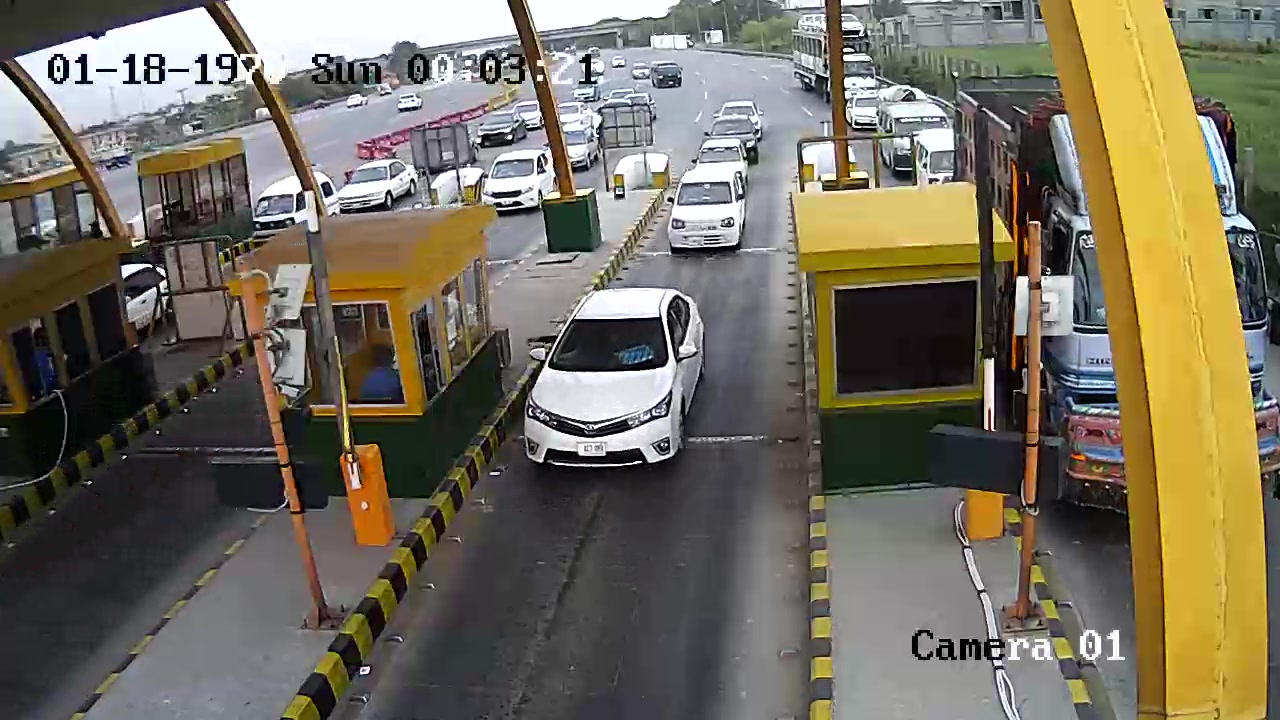F1: (513, 283, 714, 495)
